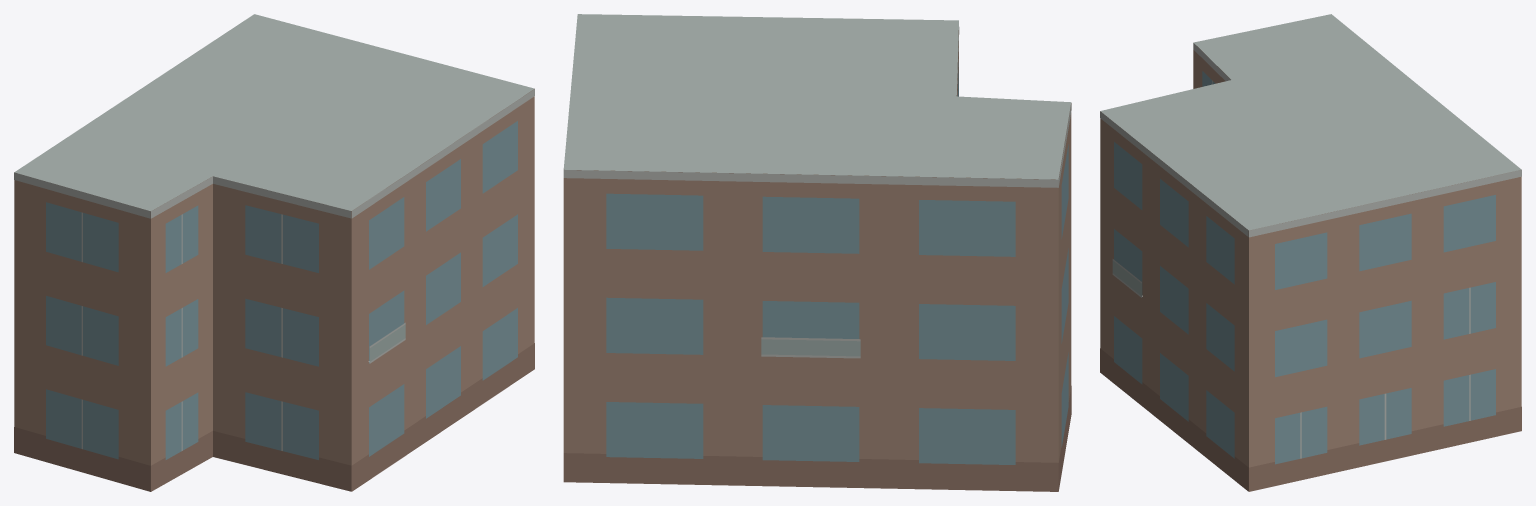
File: survey-upis-32757472.glb
The picture shows the model from 3 angles, left to right: view 1: azimuth 30°, elevation 25°; view 2: azimuth 150°, elevation 25°; view 3: azimuth 270°, elevation 25°; orthographic projection. The views are drawn at different scales.
Visible parts, largest first — view 1: survey-upis-32757472.tmp; view 2: survey-upis-32757472.tmp; view 3: survey-upis-32757472.tmp.
Part boxes in pixels (box(x1,y1,x2,y2)): survey-upis-32757472.tmp: box(14, 14, 534, 491); survey-upis-32757472.tmp: box(563, 14, 1071, 491); survey-upis-32757472.tmp: box(1100, 14, 1521, 491).
Bounding box in the file's own units: 16.27 × 9.15 × 13.39.
